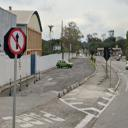NoSeguir: (8, 29, 26, 55)
